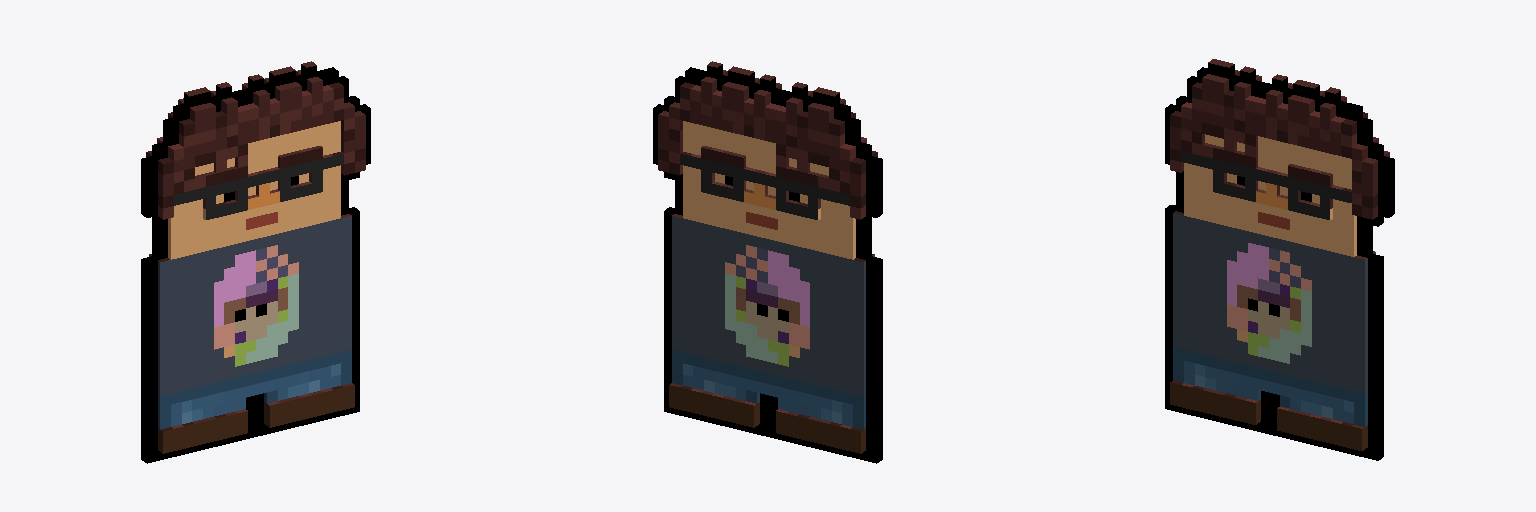
3 renders of one model, left to right at view 1: azimuth 30°, elevation 25°; view 2: azimuth 150°, elevation 25°; view 3: azimuth 330°, elevation 25°, orthographic.
Bounding box in the file's own units: 21 × 32 × 2.7.
1 materials, 1 textured.